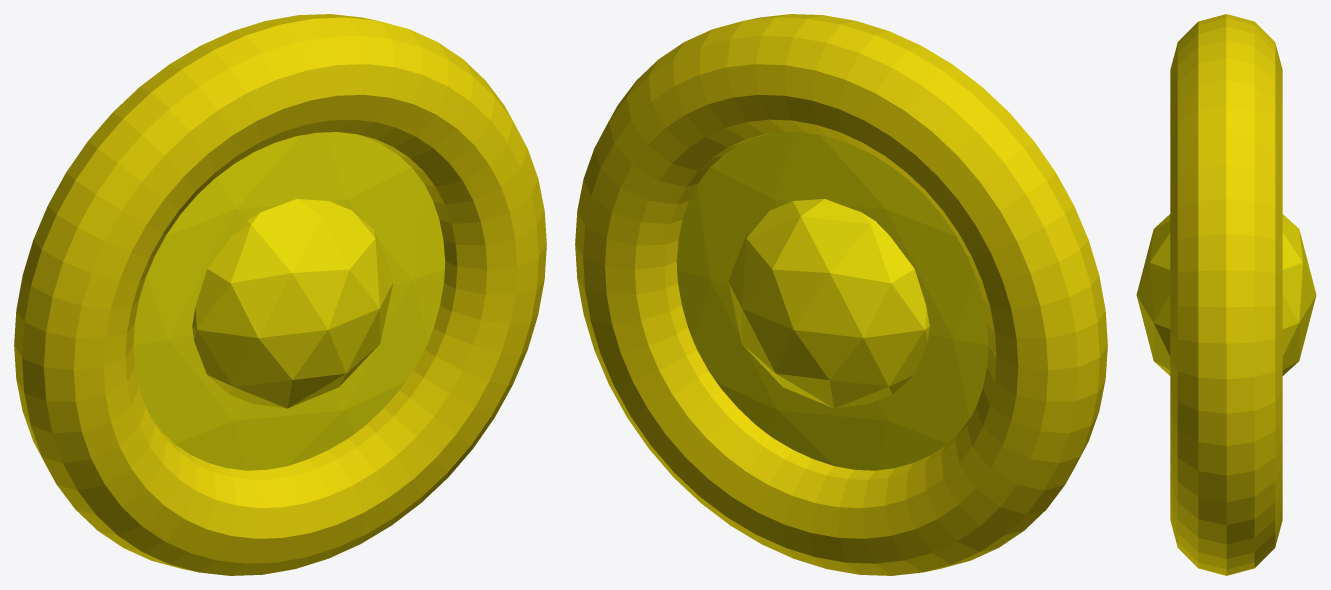
The picture shows the model from 3 angles, left to right: view 1: azimuth 30°, elevation 25°; view 2: azimuth 150°, elevation 25°; view 3: azimuth 270°, elevation 25°; orthographic projection. The views are drawn at different scales.
Parts seen in each view (by area): view 1: Torus, Icosphere, Icosphere.001; view 2: Torus, Icosphere, Icosphere.001; view 3: Torus, Icosphere.001.
Boxes of the visible parts, bbox=[...] form: Torus: bbox=[14, 14, 546, 575]; Icosphere: bbox=[133, 132, 445, 470]; Icosphere.001: bbox=[192, 199, 393, 408]; Torus: bbox=[575, 14, 1107, 575]; Icosphere: bbox=[676, 132, 988, 470]; Icosphere.001: bbox=[728, 199, 929, 408]; Torus: bbox=[1170, 14, 1282, 575]; Icosphere.001: bbox=[1136, 214, 1316, 375].
Bounding box in the file's own units: 250 × 250 × 80.
